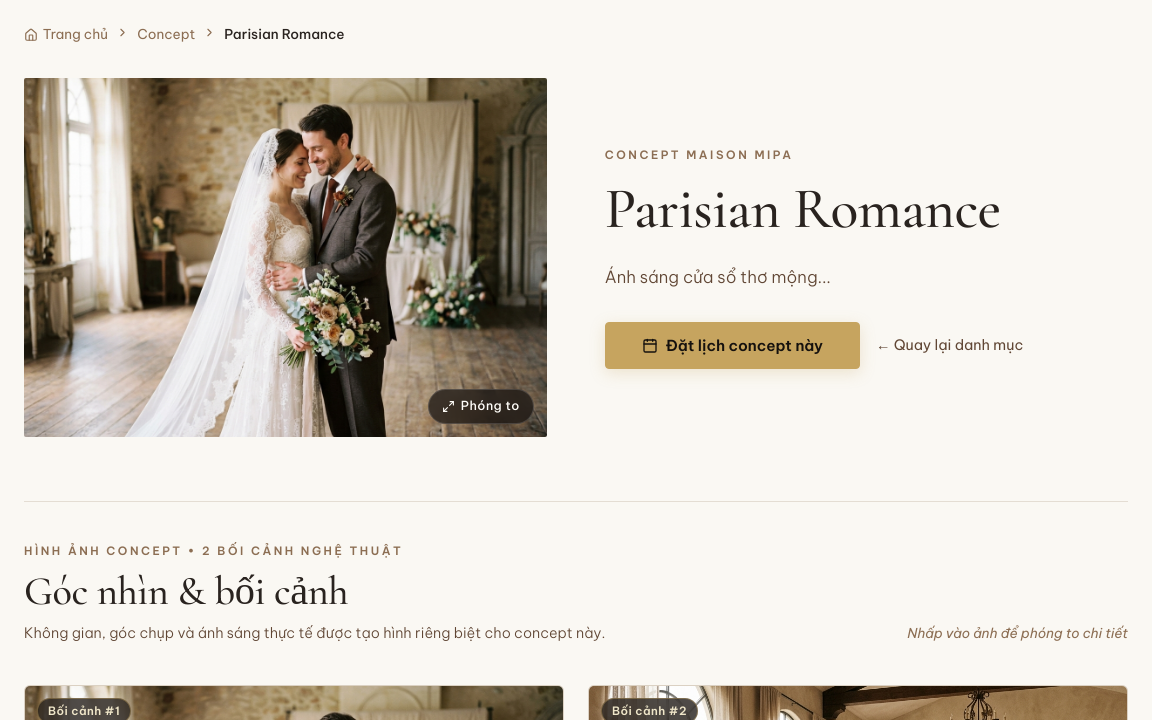
it: ConceptDetailPage Lightbox and Cover Photo Fallback › allows clicking the main hero image to zoom in lightbox
Expected: the heading "Parisian Romance" is shown, [605, 174, 1000, 244]
Click the hero image frame
Click the picture with alt text "Parisian Romance" at x=286, y=258, box [24, 78, 547, 438]
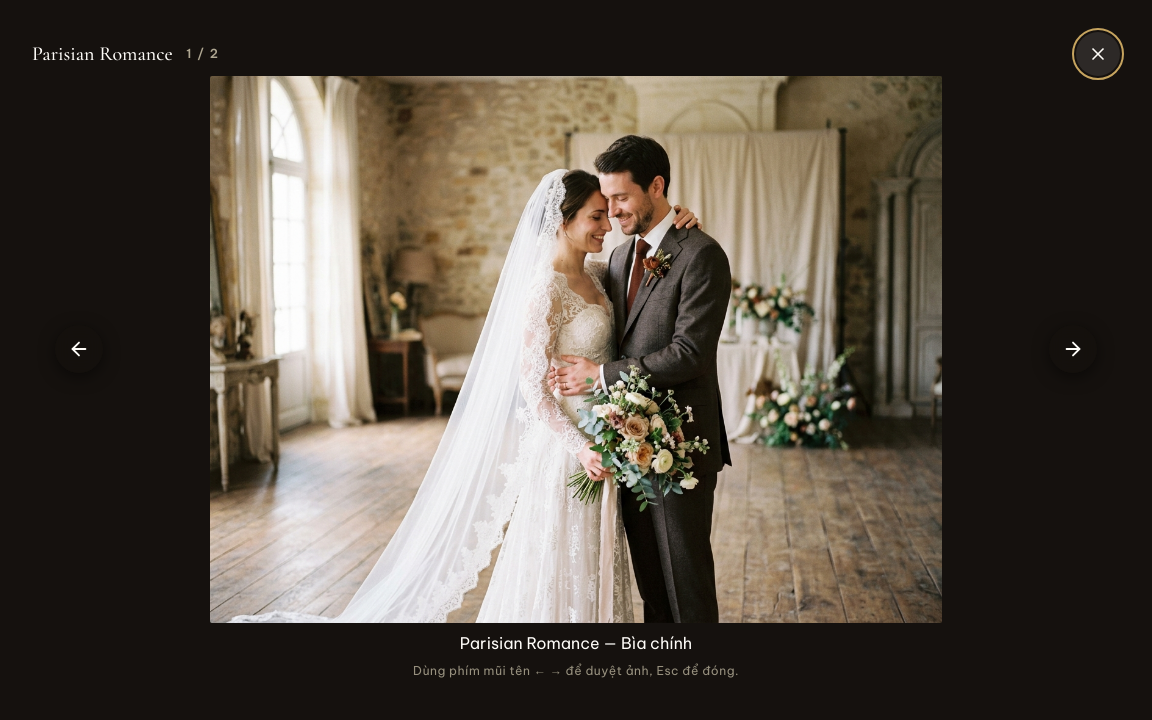
Expected: the dialog is shown
Expected: the text "1 / 2" is shown, [186, 44, 219, 64]
